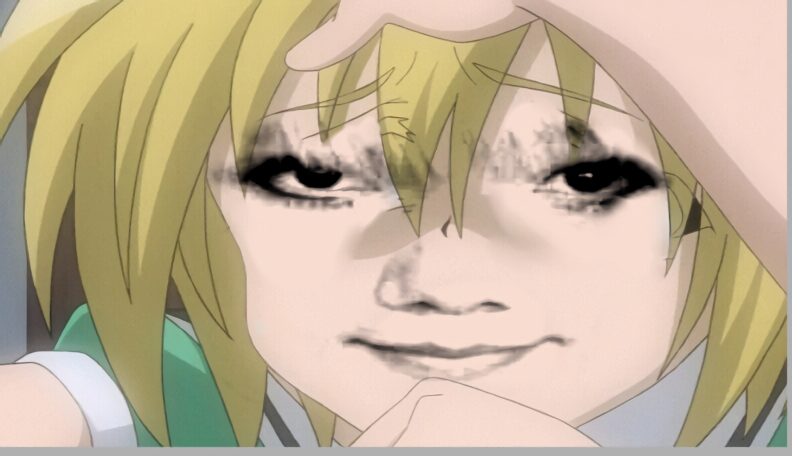dragon: (242, 138, 669, 380)
